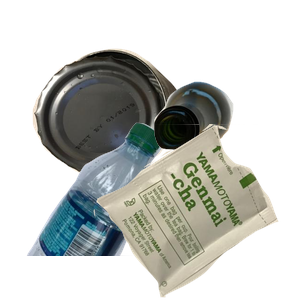glass: (151, 79, 300, 221)
metal: (30, 46, 205, 215)
plastic: (24, 120, 182, 300)
trash: (91, 124, 300, 300)
